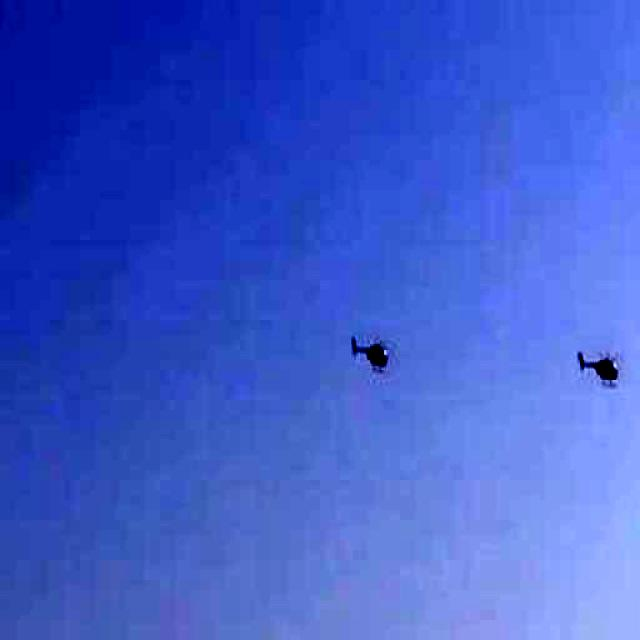drone: (559, 336, 640, 406), (341, 319, 401, 385)
